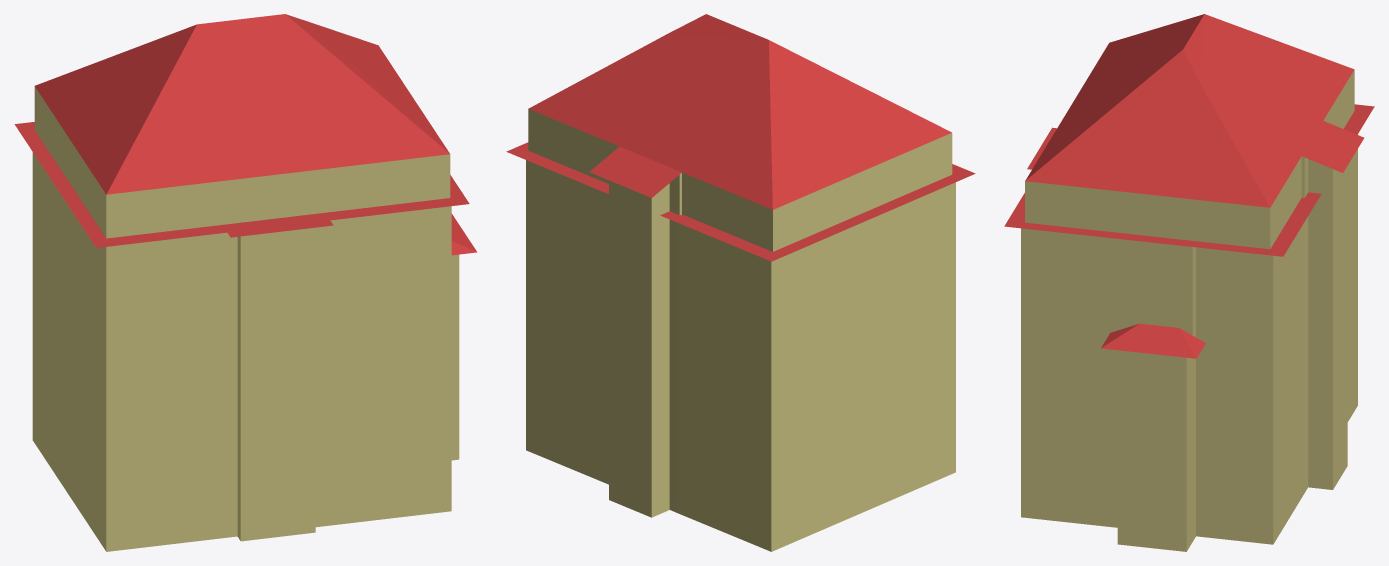
3 views of the same model, side by side, from view 1: azimuth 30°, elevation 25°; view 2: azimuth 150°, elevation 25°; view 3: azimuth 270°, elevation 25° (orthographic). The views are drawn at different scales.
Visible parts, largest first — view 1: group_13, group_7, group_9, group_11, group_5, group_12; view 2: group_13, group_7, group_9, group_11, group_12, group_8; view 3: group_13, group_7, group_9, group_5, group_11, group_3, group_12, group_4, group_8.
Part boxes in pixels (left/top/right/bottom): group_13: left=32, top=152, right=451, bottom=551; group_7: left=35, top=14, right=449, bottom=194; group_9: left=34, top=86, right=450, bottom=238; group_11: left=14, top=122, right=468, bottom=247; group_5: left=451, top=254, right=459, bottom=460; group_12: left=16, top=122, right=469, bottom=247; group_13: left=526, top=160, right=955, bottom=551; group_7: left=528, top=14, right=951, bottom=209; group_9: left=528, top=109, right=952, bottom=517; group_11: left=507, top=148, right=975, bottom=261; group_12: left=506, top=142, right=973, bottom=260; group_8: left=589, top=158, right=676, bottom=197; group_13: left=1021, top=134, right=1357, bottom=544; group_7: left=1025, top=14, right=1359, bottom=207; group_9: left=1025, top=70, right=1354, bottom=492; group_5: left=1117, top=350, right=1192, bottom=551; group_11: left=1004, top=104, right=1374, bottom=256; group_3: left=1101, top=323, right=1196, bottom=358; group_12: left=1006, top=105, right=1373, bottom=256; group_4: left=1101, top=336, right=1205, bottom=358; group_8: left=1317, top=123, right=1364, bottom=172.
Bounding box in the file's own units: 16 × 13.33 × 17.09.
